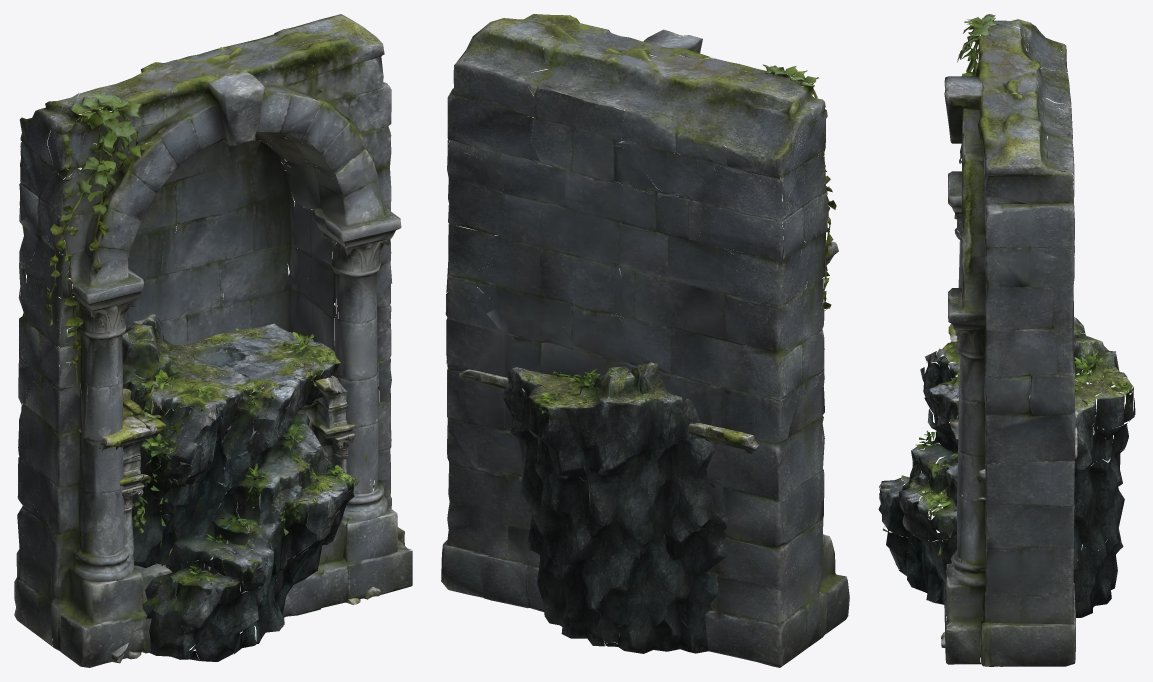
The model's file is abismo_cristal.glb.
3 renders of one model, left to right at view 1: azimuth 30°, elevation 25°; view 2: azimuth 150°, elevation 25°; view 3: azimuth 270°, elevation 25°, orthographic. The views are drawn at different scales.
Parts seen in each view (by area): view 1: arco_puente, roca_acantilado, arco_entrada; view 2: arco_puente, roca_acantilado, arco_entrada; view 3: arco_puente, roca_acantilado, arco_entrada.
Boxes of the visible parts, <box> form: arco_puente: <box>14,14,412,667</box>; roca_acantilado: <box>117,314,359,661</box>; arco_entrada: <box>51,332,380,663</box>; arco_puente: <box>441,14,849,667</box>; roca_acantilado: <box>501,362,728,653</box>; arco_entrada: <box>459,369,820,617</box>; arco_puente: <box>943,14,1075,666</box>; roca_acantilado: <box>878,317,1135,617</box>; arco_entrada: <box>941,324,1079,657</box>.
Size of the model in its own units: 8 by 11.92 by 5.46.
10 materials, 10 textured.
